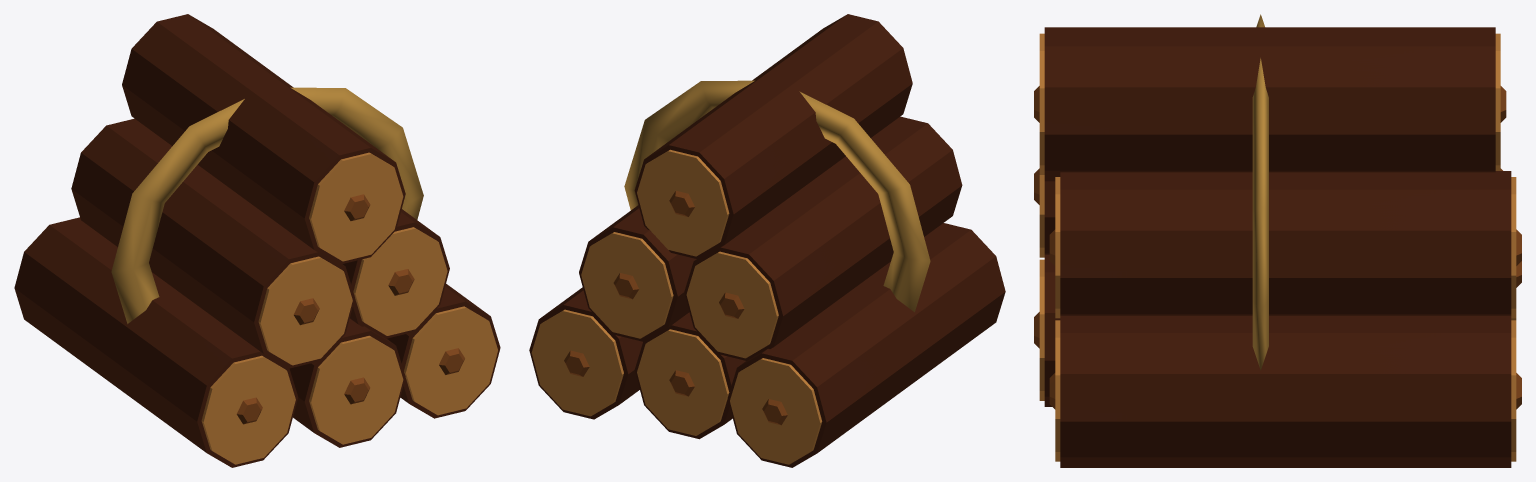
File: pile-wood-6.obj
3 renders of one model, left to right at view 1: azimuth 30°, elevation 25°; view 2: azimuth 150°, elevation 25°; view 3: azimuth 270°, elevation 25°, orthographic. The views are drawn at different scales.
Parts seen in each view (by area): view 1: pile-wood-6; view 2: pile-wood-6; view 3: pile-wood-6.
Part boxes in pixels (box(x1,y1,x2,y2)): pile-wood-6: box(14, 14, 500, 467); pile-wood-6: box(529, 14, 1005, 467); pile-wood-6: box(1034, 14, 1521, 467).
Size of the model in its own units: 0.7107 by 0.6358 by 0.779.
1 material, 1 textured.
